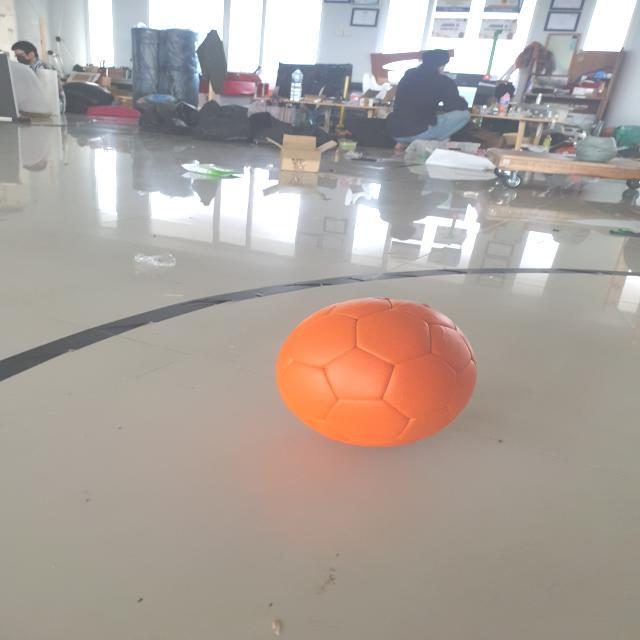bola: (270, 293, 483, 452)
